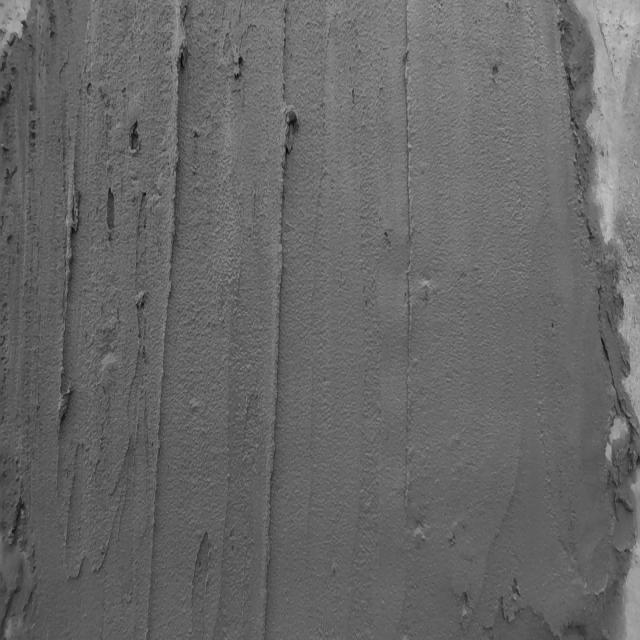trowels marks: (261, 14, 303, 640), (156, 0, 190, 640), (400, 4, 420, 527), (52, 135, 76, 482)
